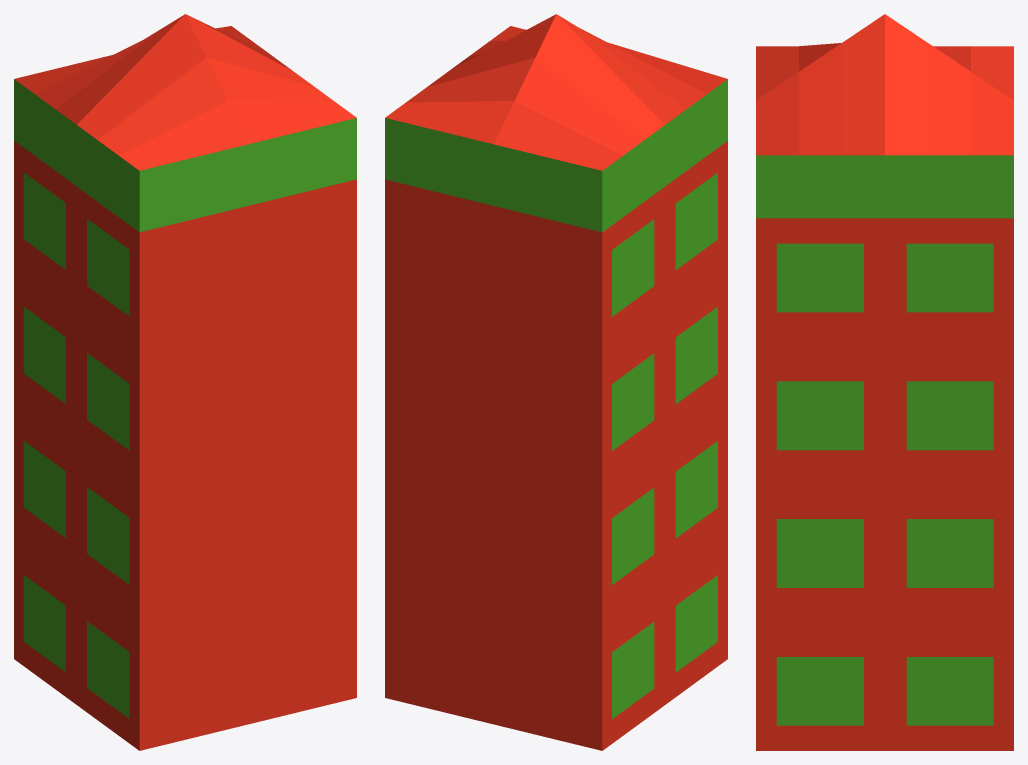
File: Building8.fbx
The picture shows the model from 3 angles, left to right: view 1: azimuth 30°, elevation 25°; view 2: azimuth 150°, elevation 25°; view 3: azimuth 270°, elevation 25°; orthographic projection. The views are drawn at different scales.
Parts seen in each view (by area): view 1: Cube; view 2: Cube; view 3: Cube.
Boxes of the visible parts, x1=… form: Cube: x1=14, y1=14, x2=356, y2=750; Cube: x1=385, y1=14, x2=727, y2=750; Cube: x1=756, y1=14, x2=1013, y2=750.
Bounding box in the file's own units: 314 × 918 × 314.
